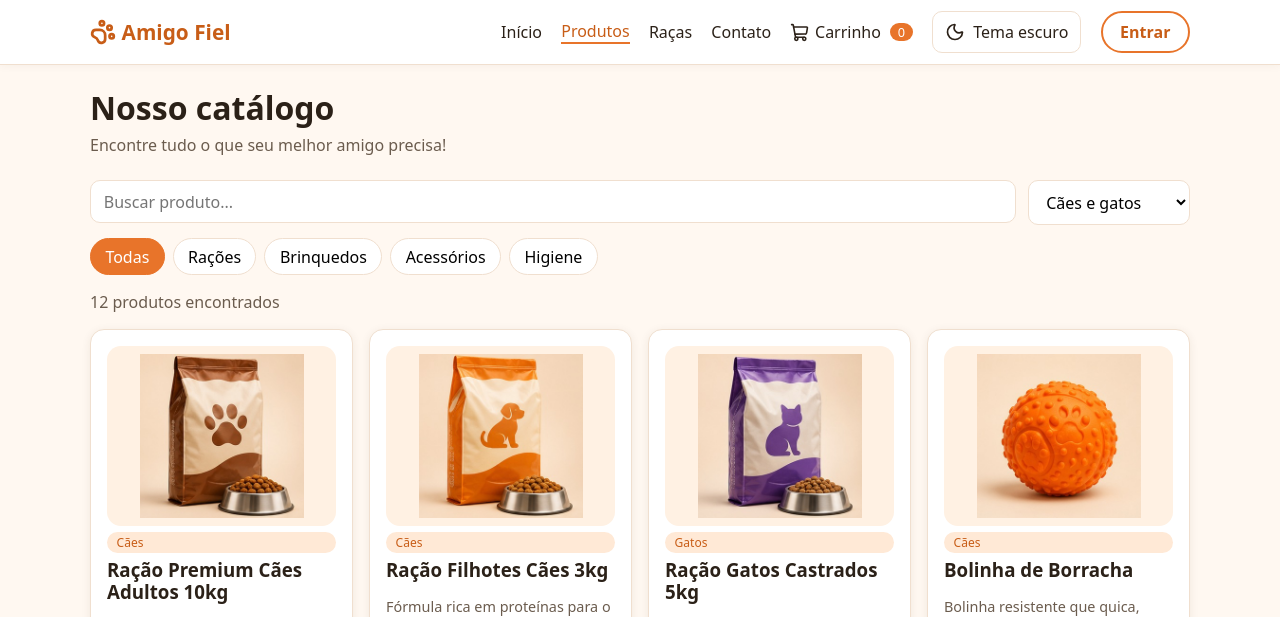
Test: Pet shop › filtra produtos por busca e por categoria
Expected: the text "12 produtos encontrados" is shown, [90,291,280,313]
Type "bolinha" into the search field labelled "Buscar produto..." at (553, 202), box [90,180,1016,223]
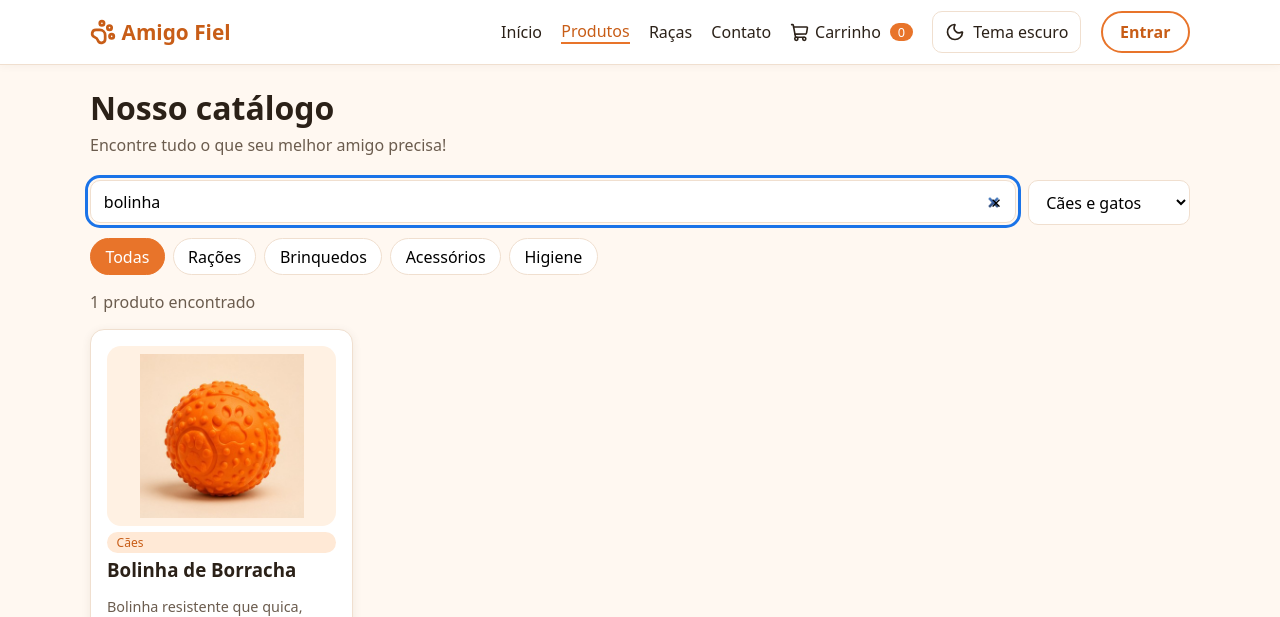
Expected: the text "1 produto encontrado" is shown, [90,291,255,313]
Clear the search field named "Buscar produto..." at (553, 202), box [90,180,1016,223]
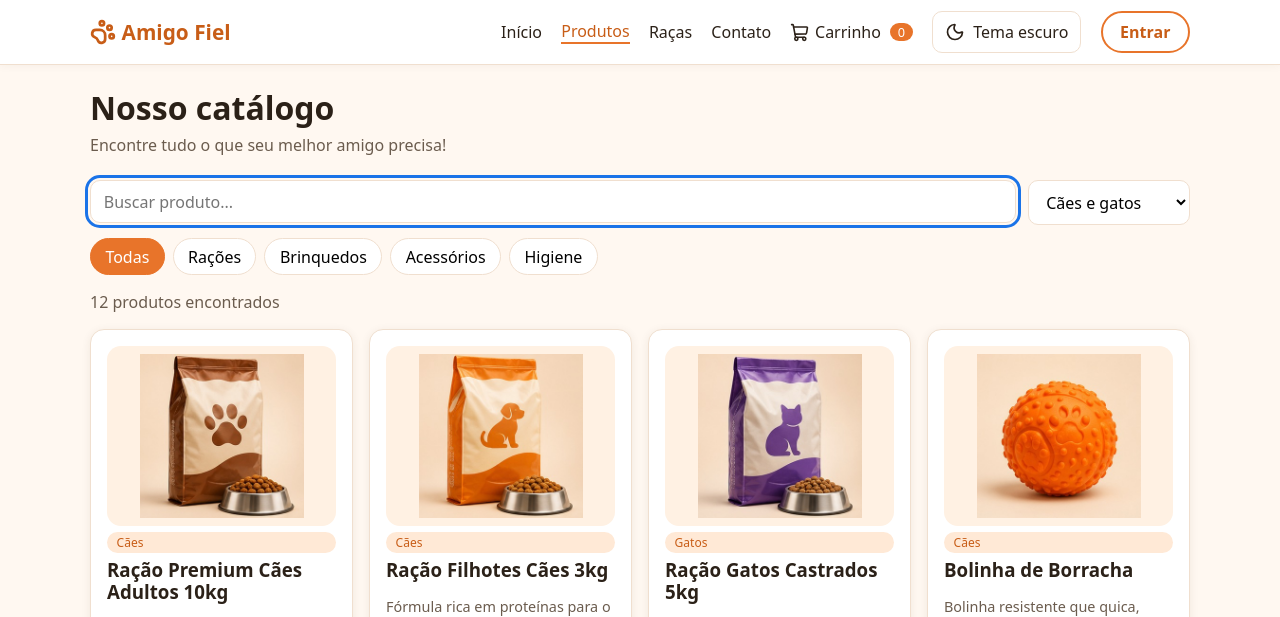
Click the button "Higiene" at (553, 256), box [509,238,598,275]
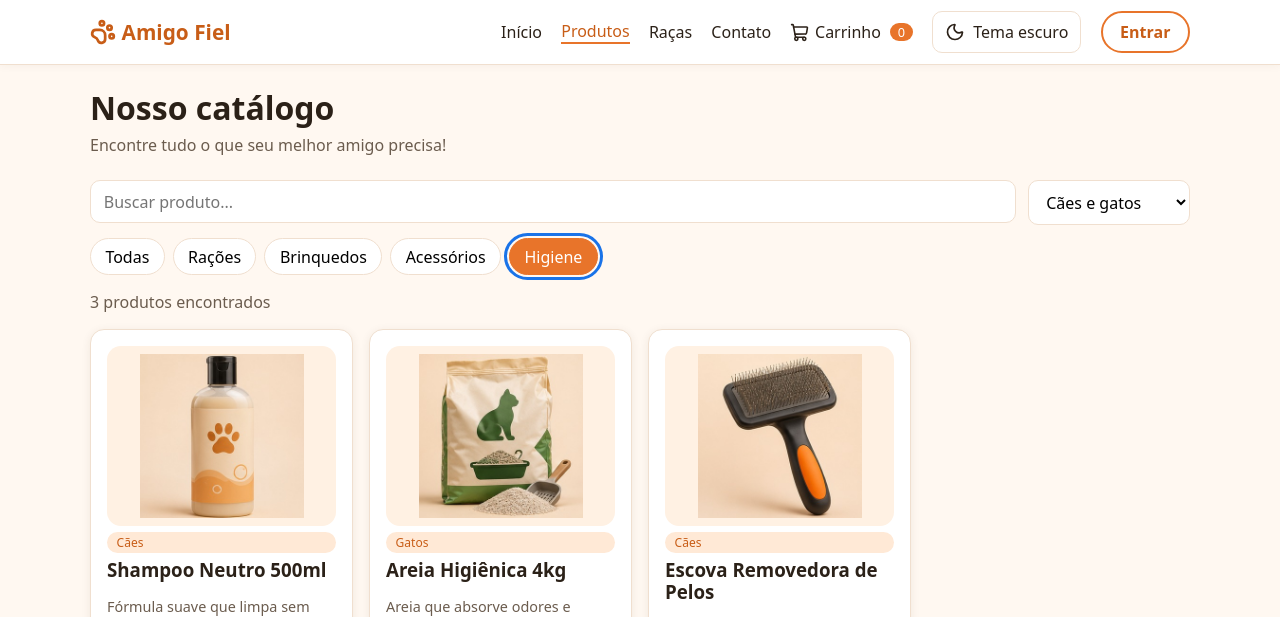
Expected: the text "3 produtos encontrados" is shown, [90,291,270,313]
